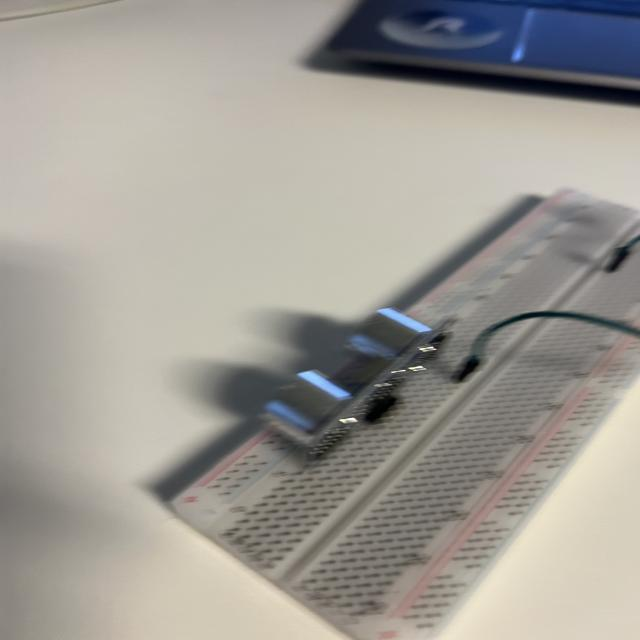BreadBoard: (183, 187, 631, 638)
UltrasoneSensor: (235, 314, 459, 480)
